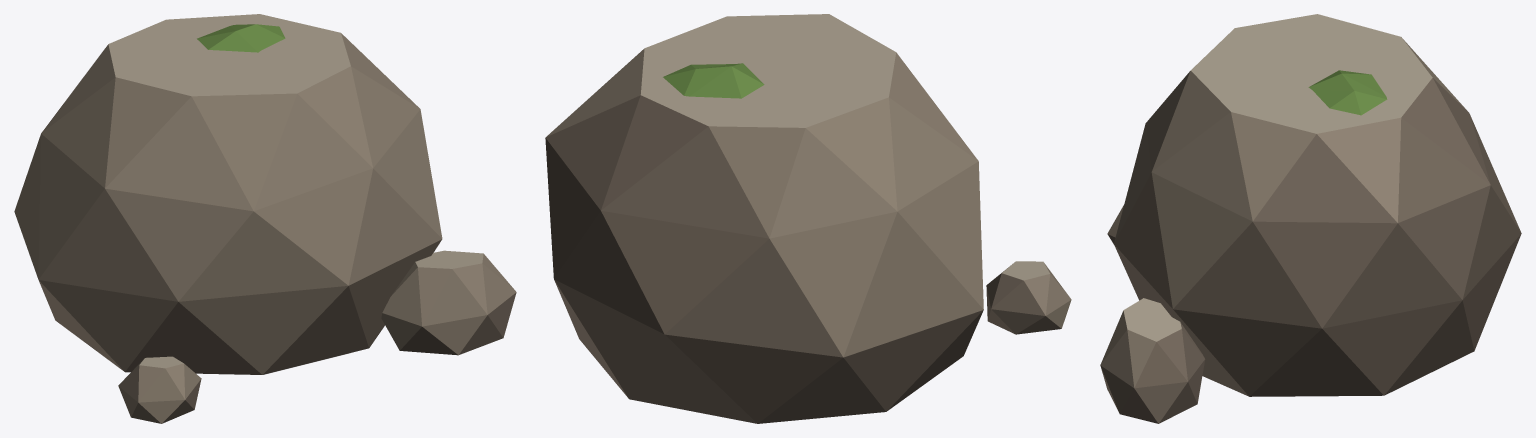
The model's file is boulder.glb.
3 views of the same model, side by side, from view 1: azimuth 30°, elevation 25°; view 2: azimuth 150°, elevation 25°; view 3: azimuth 270°, elevation 25° (orthographic). The views are drawn at different scales.
Visible parts, largest first — view 1: boulder; view 2: boulder; view 3: boulder.
Boxes of the visible parts, bbox=[...] form: boulder: bbox=[14, 14, 516, 423]; boulder: bbox=[545, 14, 1071, 423]; boulder: bbox=[1100, 14, 1521, 423].
Bounding box in the file's own units: 1 × 0.6445 × 0.9315.
